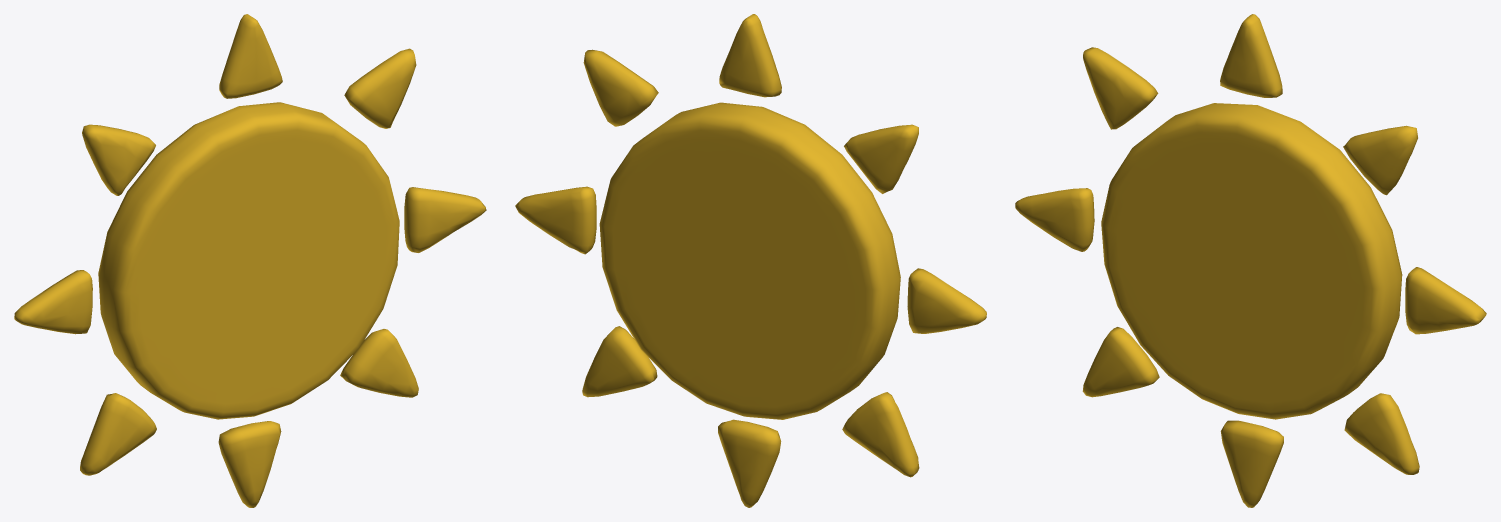
Rendered from sun FBX.glb.
3 views of the same model, side by side, from view 1: azimuth 30°, elevation 25°; view 2: azimuth 150°, elevation 25°; view 3: azimuth 330°, elevation 25° (orthographic).
Visible parts, largest first — view 1: Group11584, ZBrush_defualt_group, Group5, Group6, Group7, Group2, Group4, Group3, Group1; view 2: Group11584, ZBrush_defualt_group, Group6, Group5, Group4, Group2, Group7, Group3, Group1; view 3: Group11584, ZBrush_defualt_group, Group6, Group7, Group1, Group4, Group2, Group5, Group3.
Boxes of the visible parts, x1,y1,x2,y2 form: Group11584: (98,102,399,419); ZBrush_defualt_group: (404,187,486,252); Group5: (80,393,156,475); Group6: (218,421,281,507); Group7: (340,329,418,397); Group2: (219,14,282,98); Group4: (14,270,92,334); Group3: (344,48,416,128); Group1: (82,124,155,195); Group11584: (599,102,900,419); ZBrush_defualt_group: (515,186,596,254); Group6: (718,419,781,507); Group5: (842,392,919,477); Group4: (907,268,986,333); Group2: (719,14,781,97); Group7: (582,326,657,397); Group3: (583,49,658,126); Group1: (844,124,918,193); Group11584: (1101,103,1402,419); ZBrush_defualt_group: (1405,267,1486,334); Group6: (1220,420,1283,507); Group7: (1344,393,1419,474); Group1: (1083,47,1158,129); Group4: (1015,188,1094,251); Group2: (1220,14,1282,97); Group5: (1082,327,1159,397); Group3: (1343,125,1417,195).
Size of the model in its own units: 1.04 by 1.04 by 0.0959.
